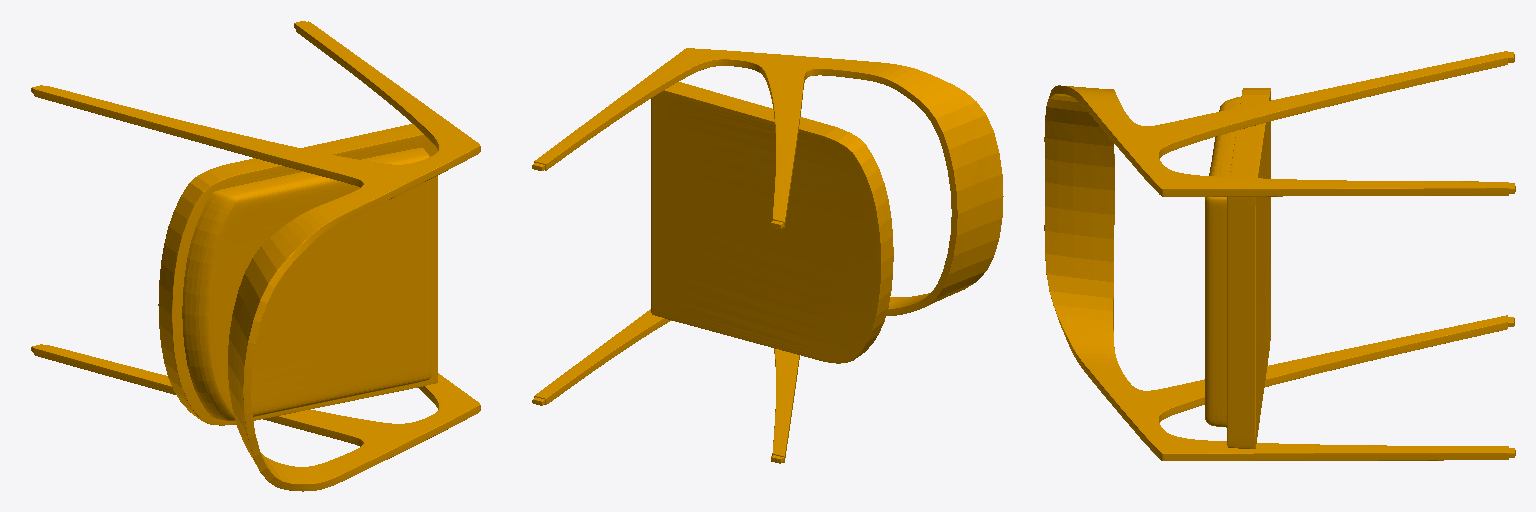
The robot description file, URDF, robot "pallet":
<?xml version="1.0"?>
<robot name="pallet">
 
    <link name="base_link">
        <visual>   <geometry> <mesh filename="chair.dae"/> </geometry> </visual>
        <collision><geometry> <mesh filename="chair.dae"/> </geometry> </collision>

        <inertial>
            <origin xyz="0 0 0" rpy="0 0 0"/>
            <mass value="5.0"/>
            <inertia ixx="1.0" ixy="0.0" ixz="0.0" iyy="1.0" iyz="0.0" izz="0.5"/>
        </inertial>

 </link>
 
</robot>

--- Facts derived from the render (not from the file) ---
The picture shows the robot from 3 angles, left to right: view 1: azimuth 30°, elevation 25°; view 2: azimuth 150°, elevation 25°; view 3: azimuth 270°, elevation 25°; orthographic projection.
Robot: pallet — 1 links, 0 joints (none); root link base_link; default pose: every joint at zero.
Visible links, largest first — view 1: base_link; view 2: base_link; view 3: base_link.
Link boxes in pixels (<box>): base_link: <box>31,21,480,491</box>; base_link: <box>532,48,1003,463</box>; base_link: <box>1044,51,1515,460</box>.
Size in the robot's own frame: 0.7173 by 0.9738 by 0.6213 metres.
1 mesh visuals loaded from 1 distinct referenced files (1 Collada DAE).
